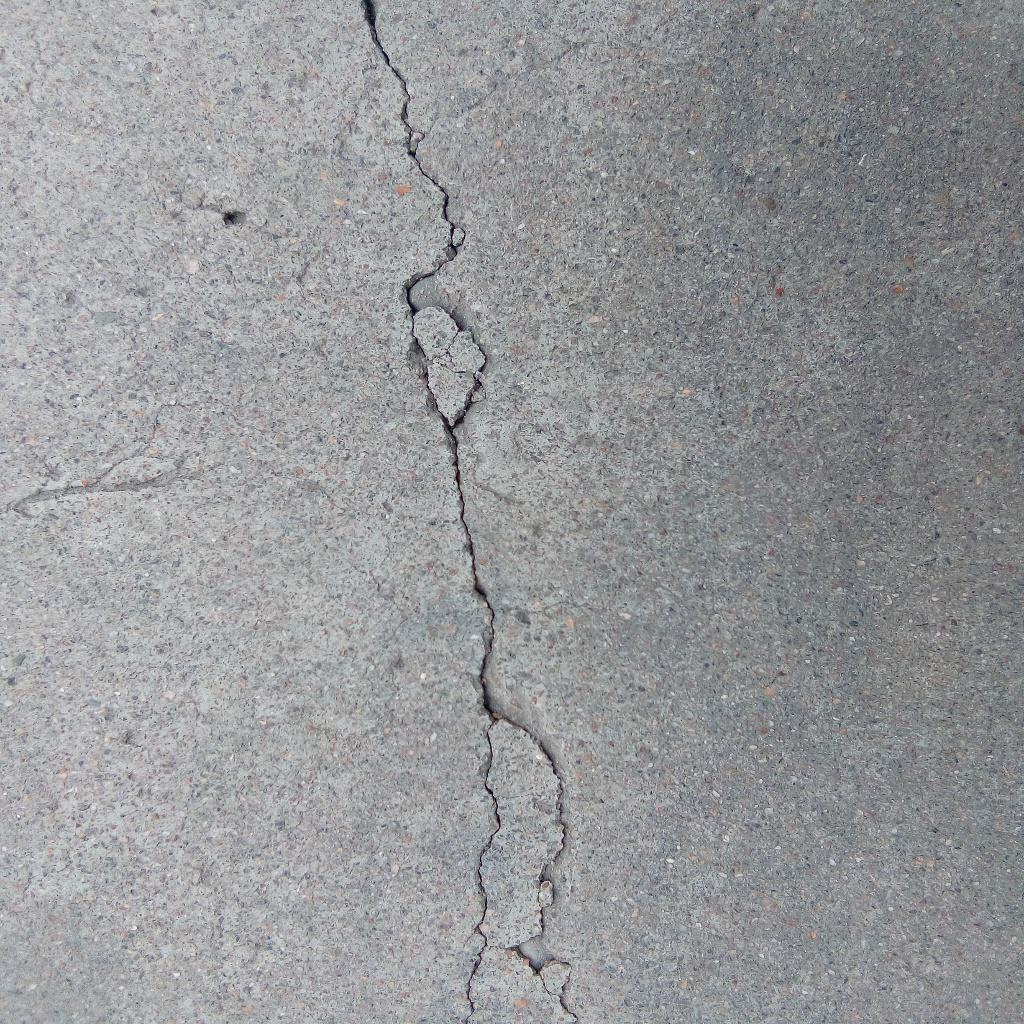Crack: (362, 1, 580, 1024)
